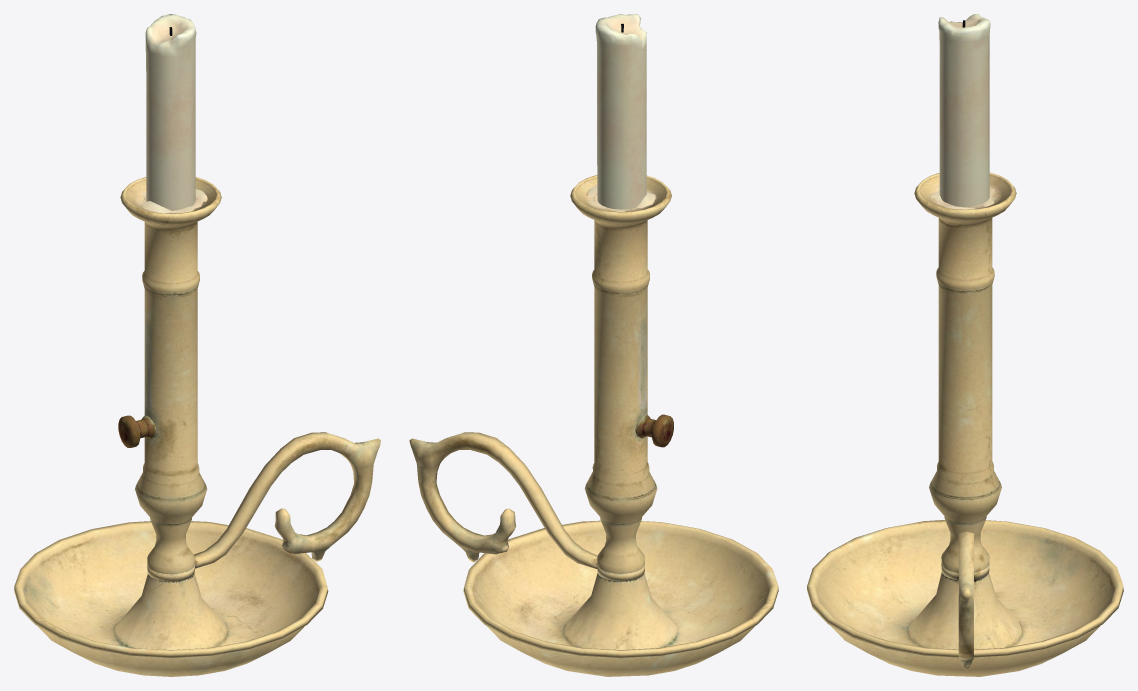
File: candleHolder.obj
3 renders of one model, left to right at view 1: azimuth 30°, elevation 25°; view 2: azimuth 150°, elevation 25°; view 3: azimuth 270°, elevation 25°, orthographic.
Visible parts, largest first — view 1: Candle_Holder, Candle; view 2: Candle_Holder, Candle; view 3: Candle_Holder, Candle.
Part boxes in pixels (left/top/right/bottom): Candle_Holder: left=14, top=177, right=380, bottom=676; Candle: left=145, top=14, right=196, bottom=210; Candle_Holder: left=409, top=175, right=778, bottom=676; Candle: left=595, top=14, right=646, bottom=209; Candle_Holder: left=807, top=172, right=1123, bottom=676; Candle: left=938, top=14, right=990, bottom=207.
Bounding box in the file's own units: 0.158 × 0.2692 × 0.1241.
